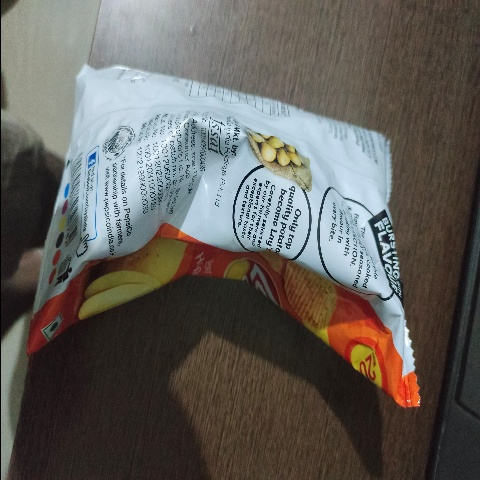lays_orange_pack: (42, 54, 430, 415)
